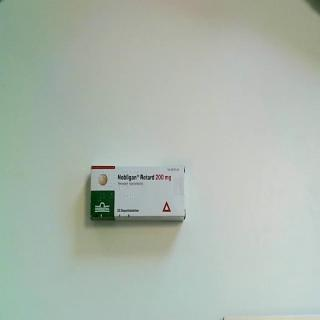nobligan_retard200mg: (89, 164, 187, 224)
